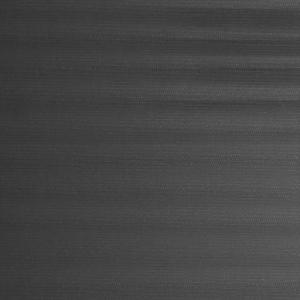Wrinkle: (3, 1, 300, 157)
